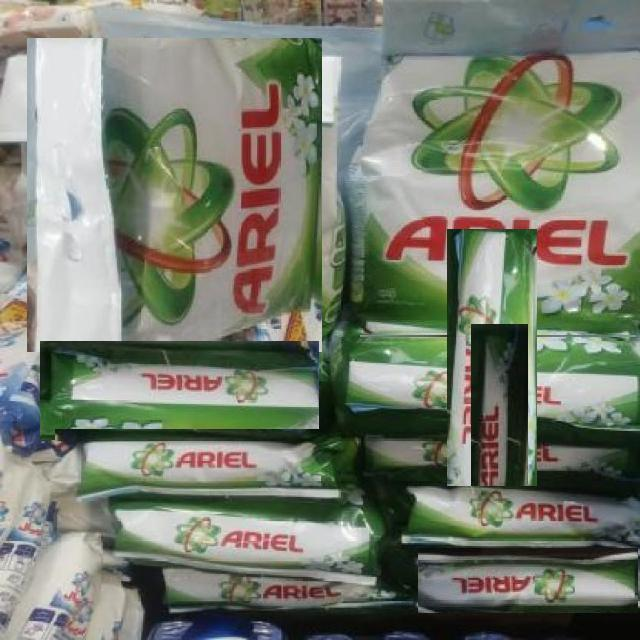Detergent: (27, 37, 322, 352), (358, 48, 638, 335), (359, 51, 636, 337), (39, 340, 319, 440), (446, 229, 537, 520), (55, 429, 350, 504), (110, 503, 382, 572), (402, 486, 639, 560), (472, 324, 528, 602), (417, 547, 638, 613)
